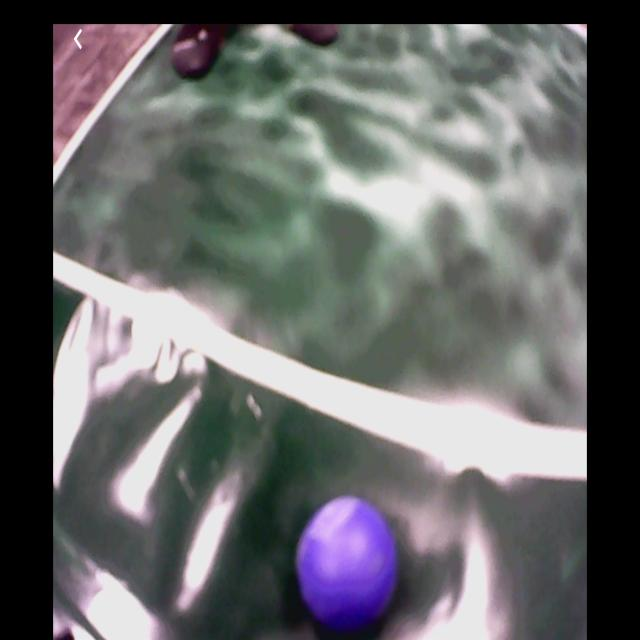ball: (298, 498, 399, 620)
